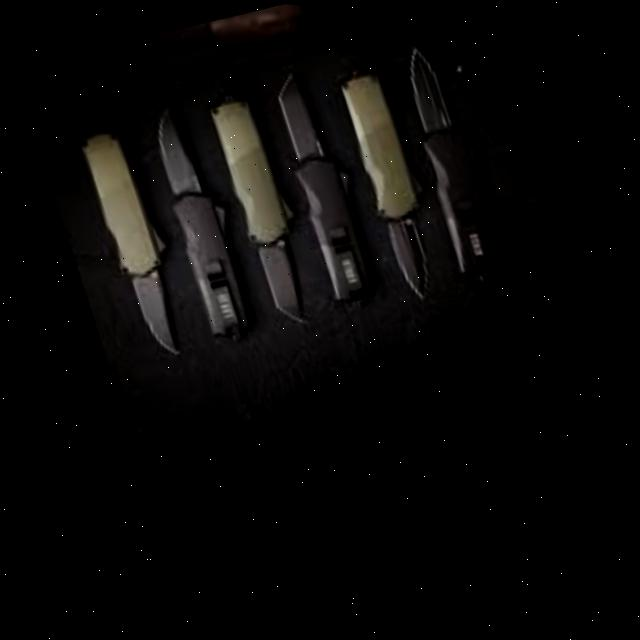Knife: (202, 86, 324, 329), (333, 59, 454, 301), (75, 122, 196, 360), (390, 36, 506, 280), (139, 100, 254, 344), (262, 65, 377, 304)
